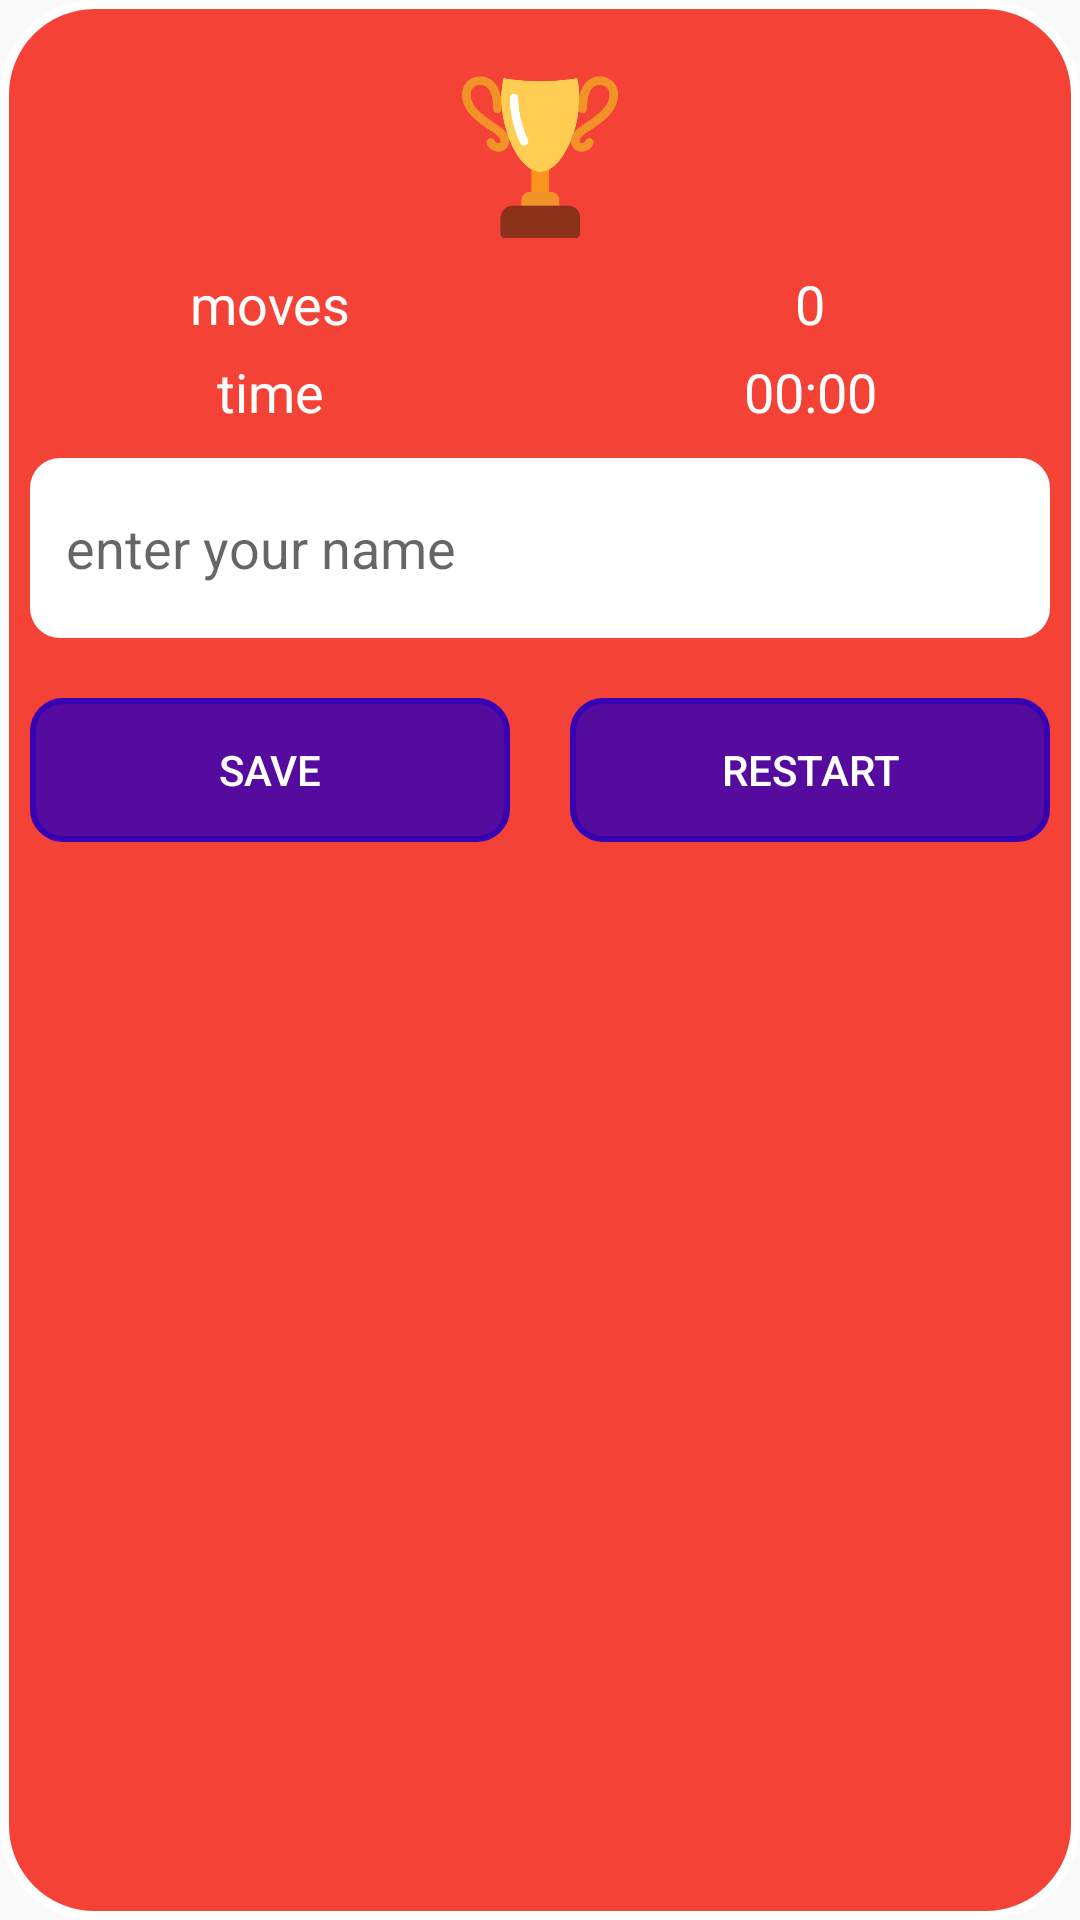

Screen size 1080*1920. Icon name, then its center in pixels as (x,y):
win: (540,157)
